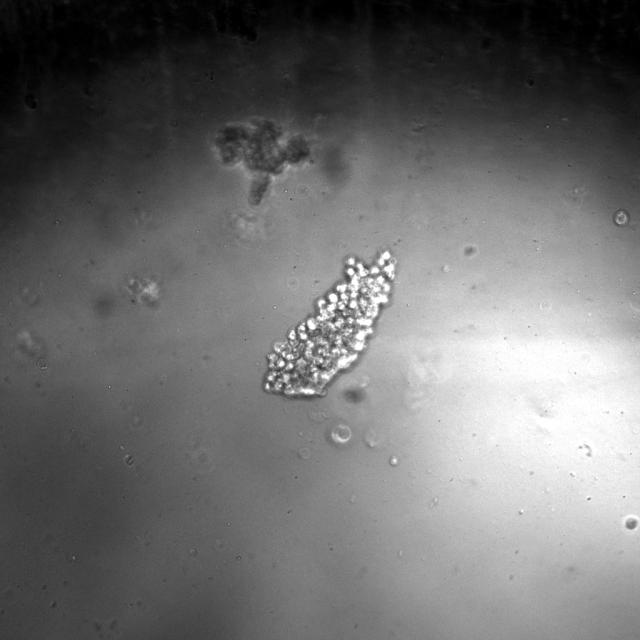organoid: (263, 251, 394, 396), (214, 118, 309, 205), (612, 209, 630, 227), (625, 517, 639, 530)
